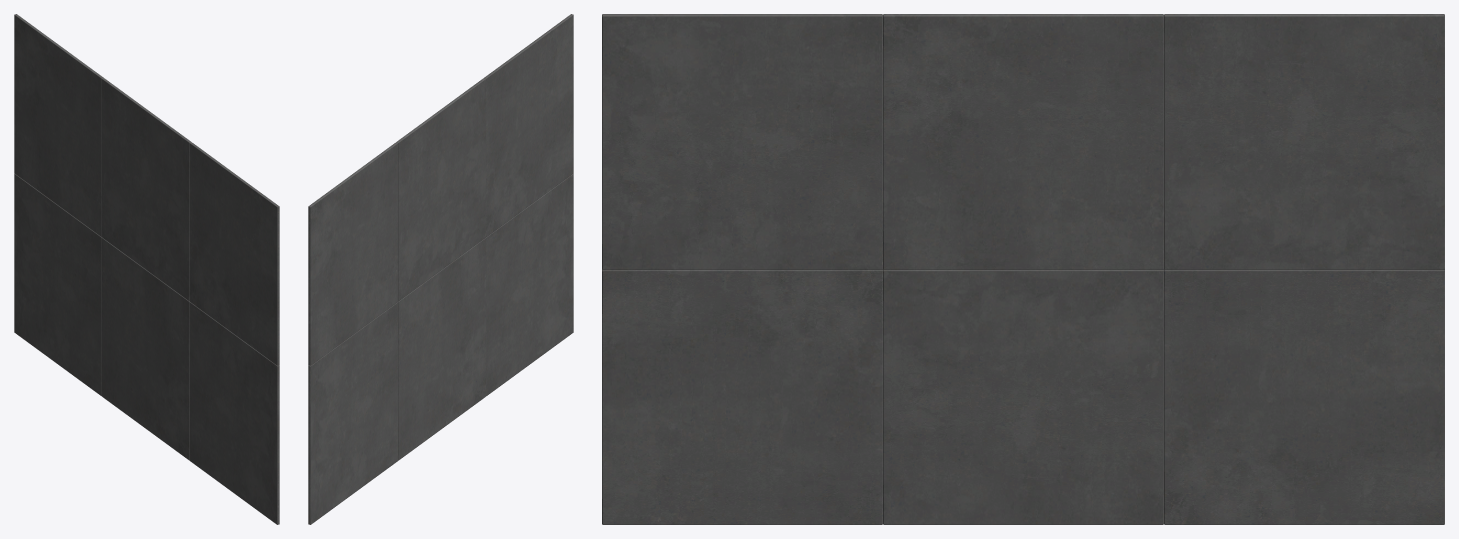
Rendered from cP_Pathway03_Large_Comb04.dae.
3 views of the same model, side by side, from view 1: azimuth 30°, elevation 25°; view 2: azimuth 150°, elevation 25°; view 3: azimuth 270°, elevation 25° (orthographic). The views are drawn at different scales.
Visible parts, largest first — view 1: cP_Pathway03_Large_Comb04.001; view 2: cP_Pathway03_Large_Comb04.001; view 3: cP_Pathway03_Large_Comb04.001.
Boxes of the visible parts, <box> form: cP_Pathway03_Large_Comb04.001: <box>14,14,279,524</box>; cP_Pathway03_Large_Comb04.001: <box>308,14,573,524</box>; cP_Pathway03_Large_Comb04.001: <box>602,14,1444,524</box>.
Bounding box in the file's own units: 0.0653 × 12 × 8.
